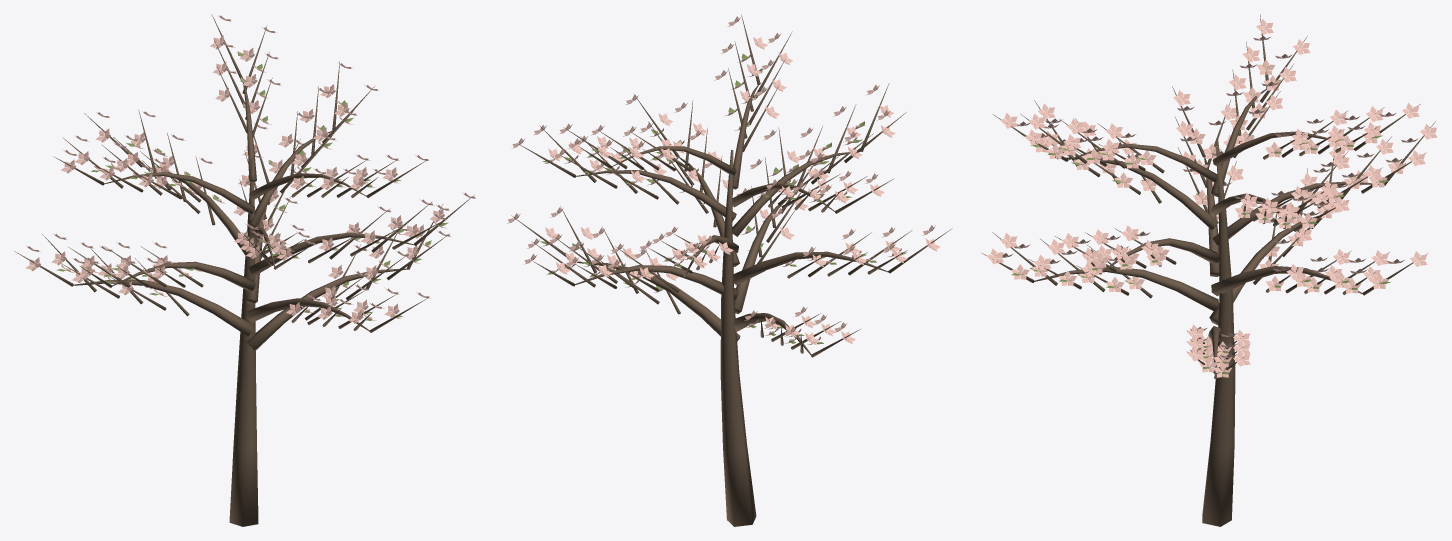
Rendered from blossom-lod2.glb.
3 views of the same model, side by side, from view 1: azimuth 30°, elevation 25°; view 2: azimuth 150°, elevation 25°; view 3: azimuth 270°, elevation 25° (orthographic). The views are drawn at different scales.
Parts seen in each view (by area): view 1: rooted trunk and branch hierarchy, actual five petal flowers, three dimensional leaves; view 2: rooted trunk and branch hierarchy, actual five petal flowers, three dimensional leaves; view 3: actual five petal flowers, rooted trunk and branch hierarchy, three dimensional leaves.
Part boxes in pixels (<box>): rooted trunk and branch hierarchy: <box>14,14,474,526</box>; actual five petal flowers: <box>26,15,476,323</box>; three dimensional leaves: <box>56,51,448,320</box>; rooted trunk and branch hierarchy: <box>511,14,952,526</box>; actual five petal flowers: <box>507,16,940,345</box>; three dimensional leaves: <box>540,54,907,344</box>; actual five petal flowers: <box>987,19,1437,377</box>; rooted trunk and branch hierarchy: <box>982,14,1435,526</box>; three dimensional leaves: <box>1012,65,1405,374</box>.
Size of the model in its own units: 4.87 by 4.89 by 4.47.
